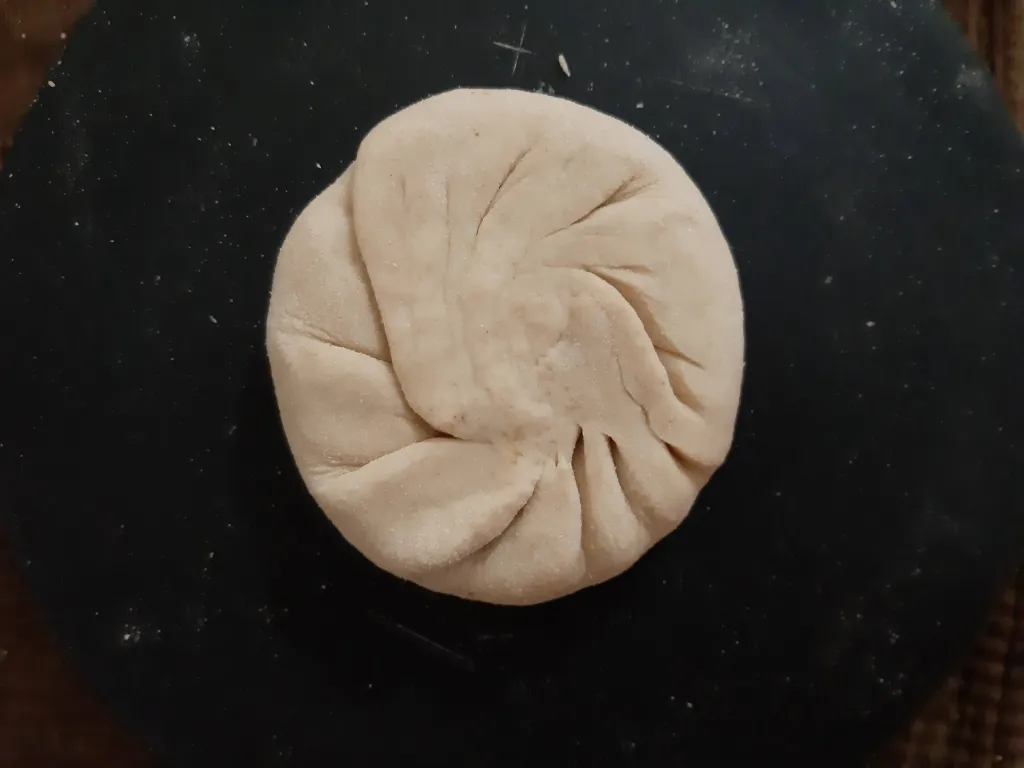momo: (258, 77, 753, 627)
